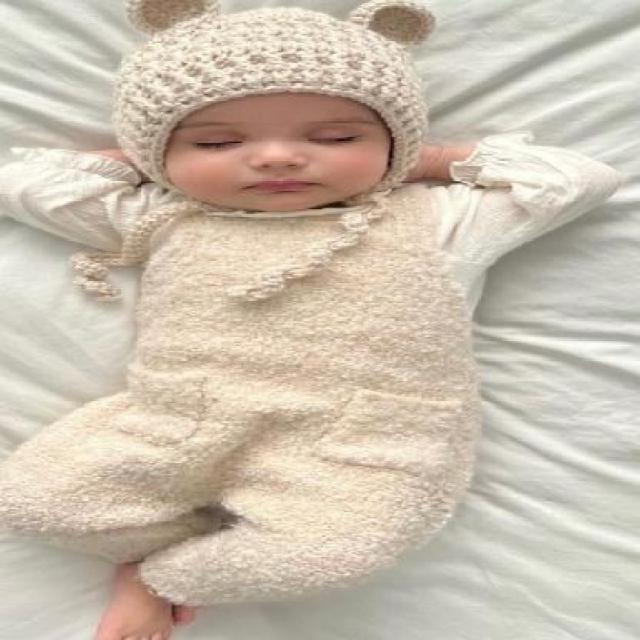baby: (1, 4, 624, 638)
